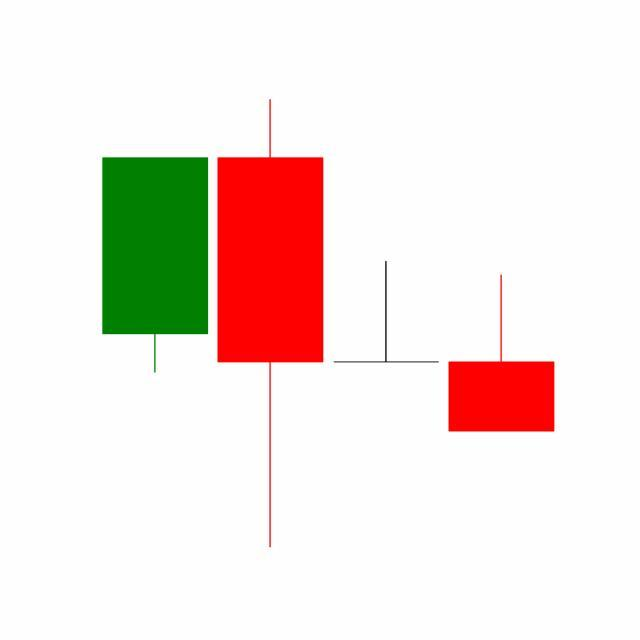Gravestone Doji: (329, 260, 445, 364)
